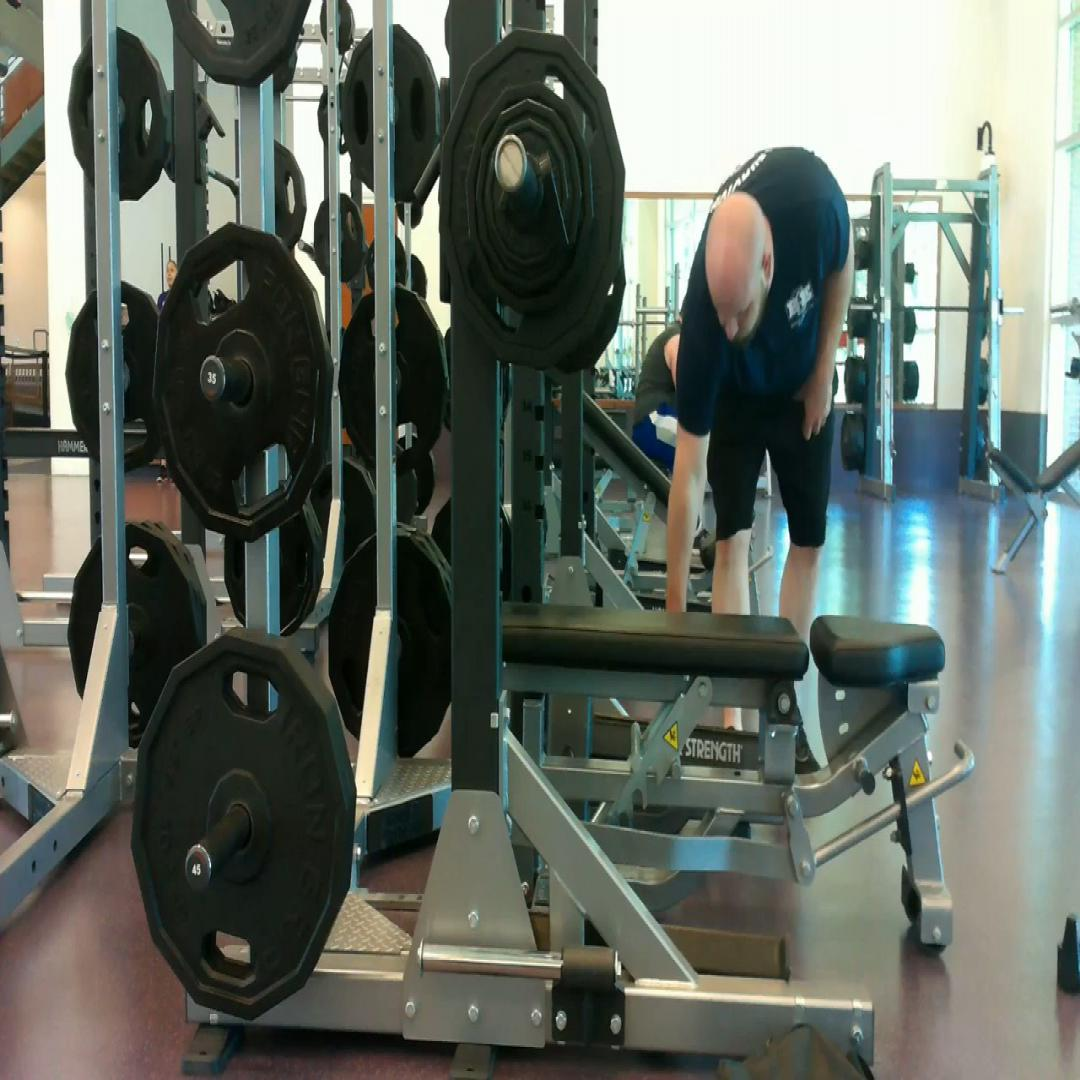Bar: (494, 134, 528, 190)
Barbell: (439, 30, 625, 370)
